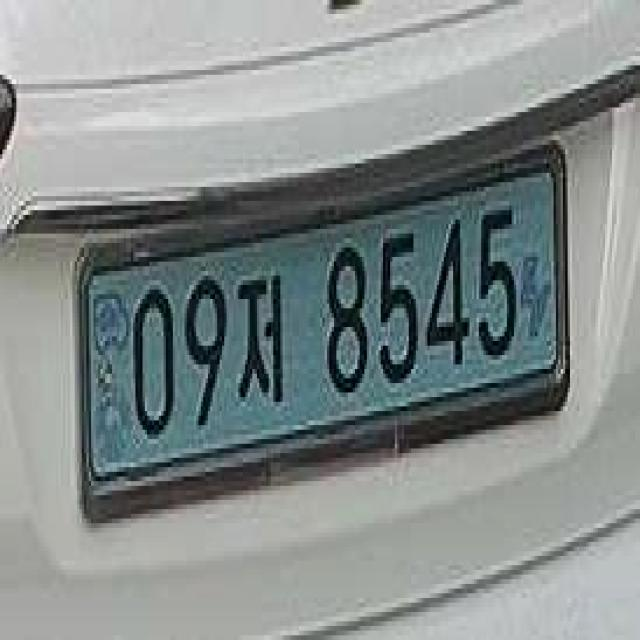EV_plate: (66, 148, 578, 516)
